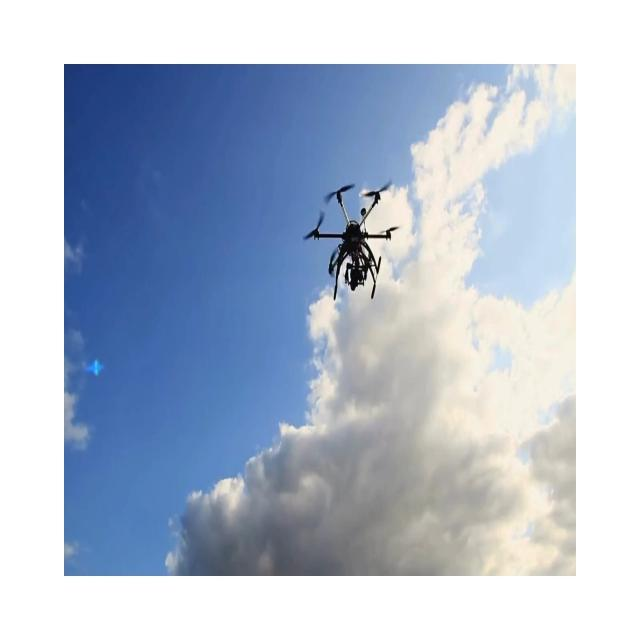drone: (302, 180, 399, 301)
